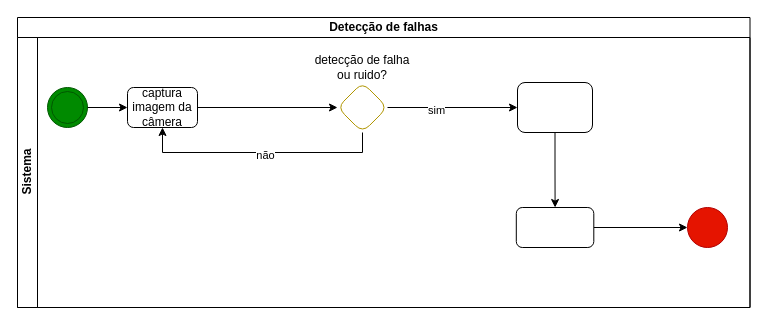
The diagram is 768 pixels wide and 325 high, and some of its shapes have lost their labels. Each missing label, with the box of its shape:
Contabiliza e registra em qual camera: (516, 82, 592, 132)
gera relatório: (515, 206, 594, 248)
